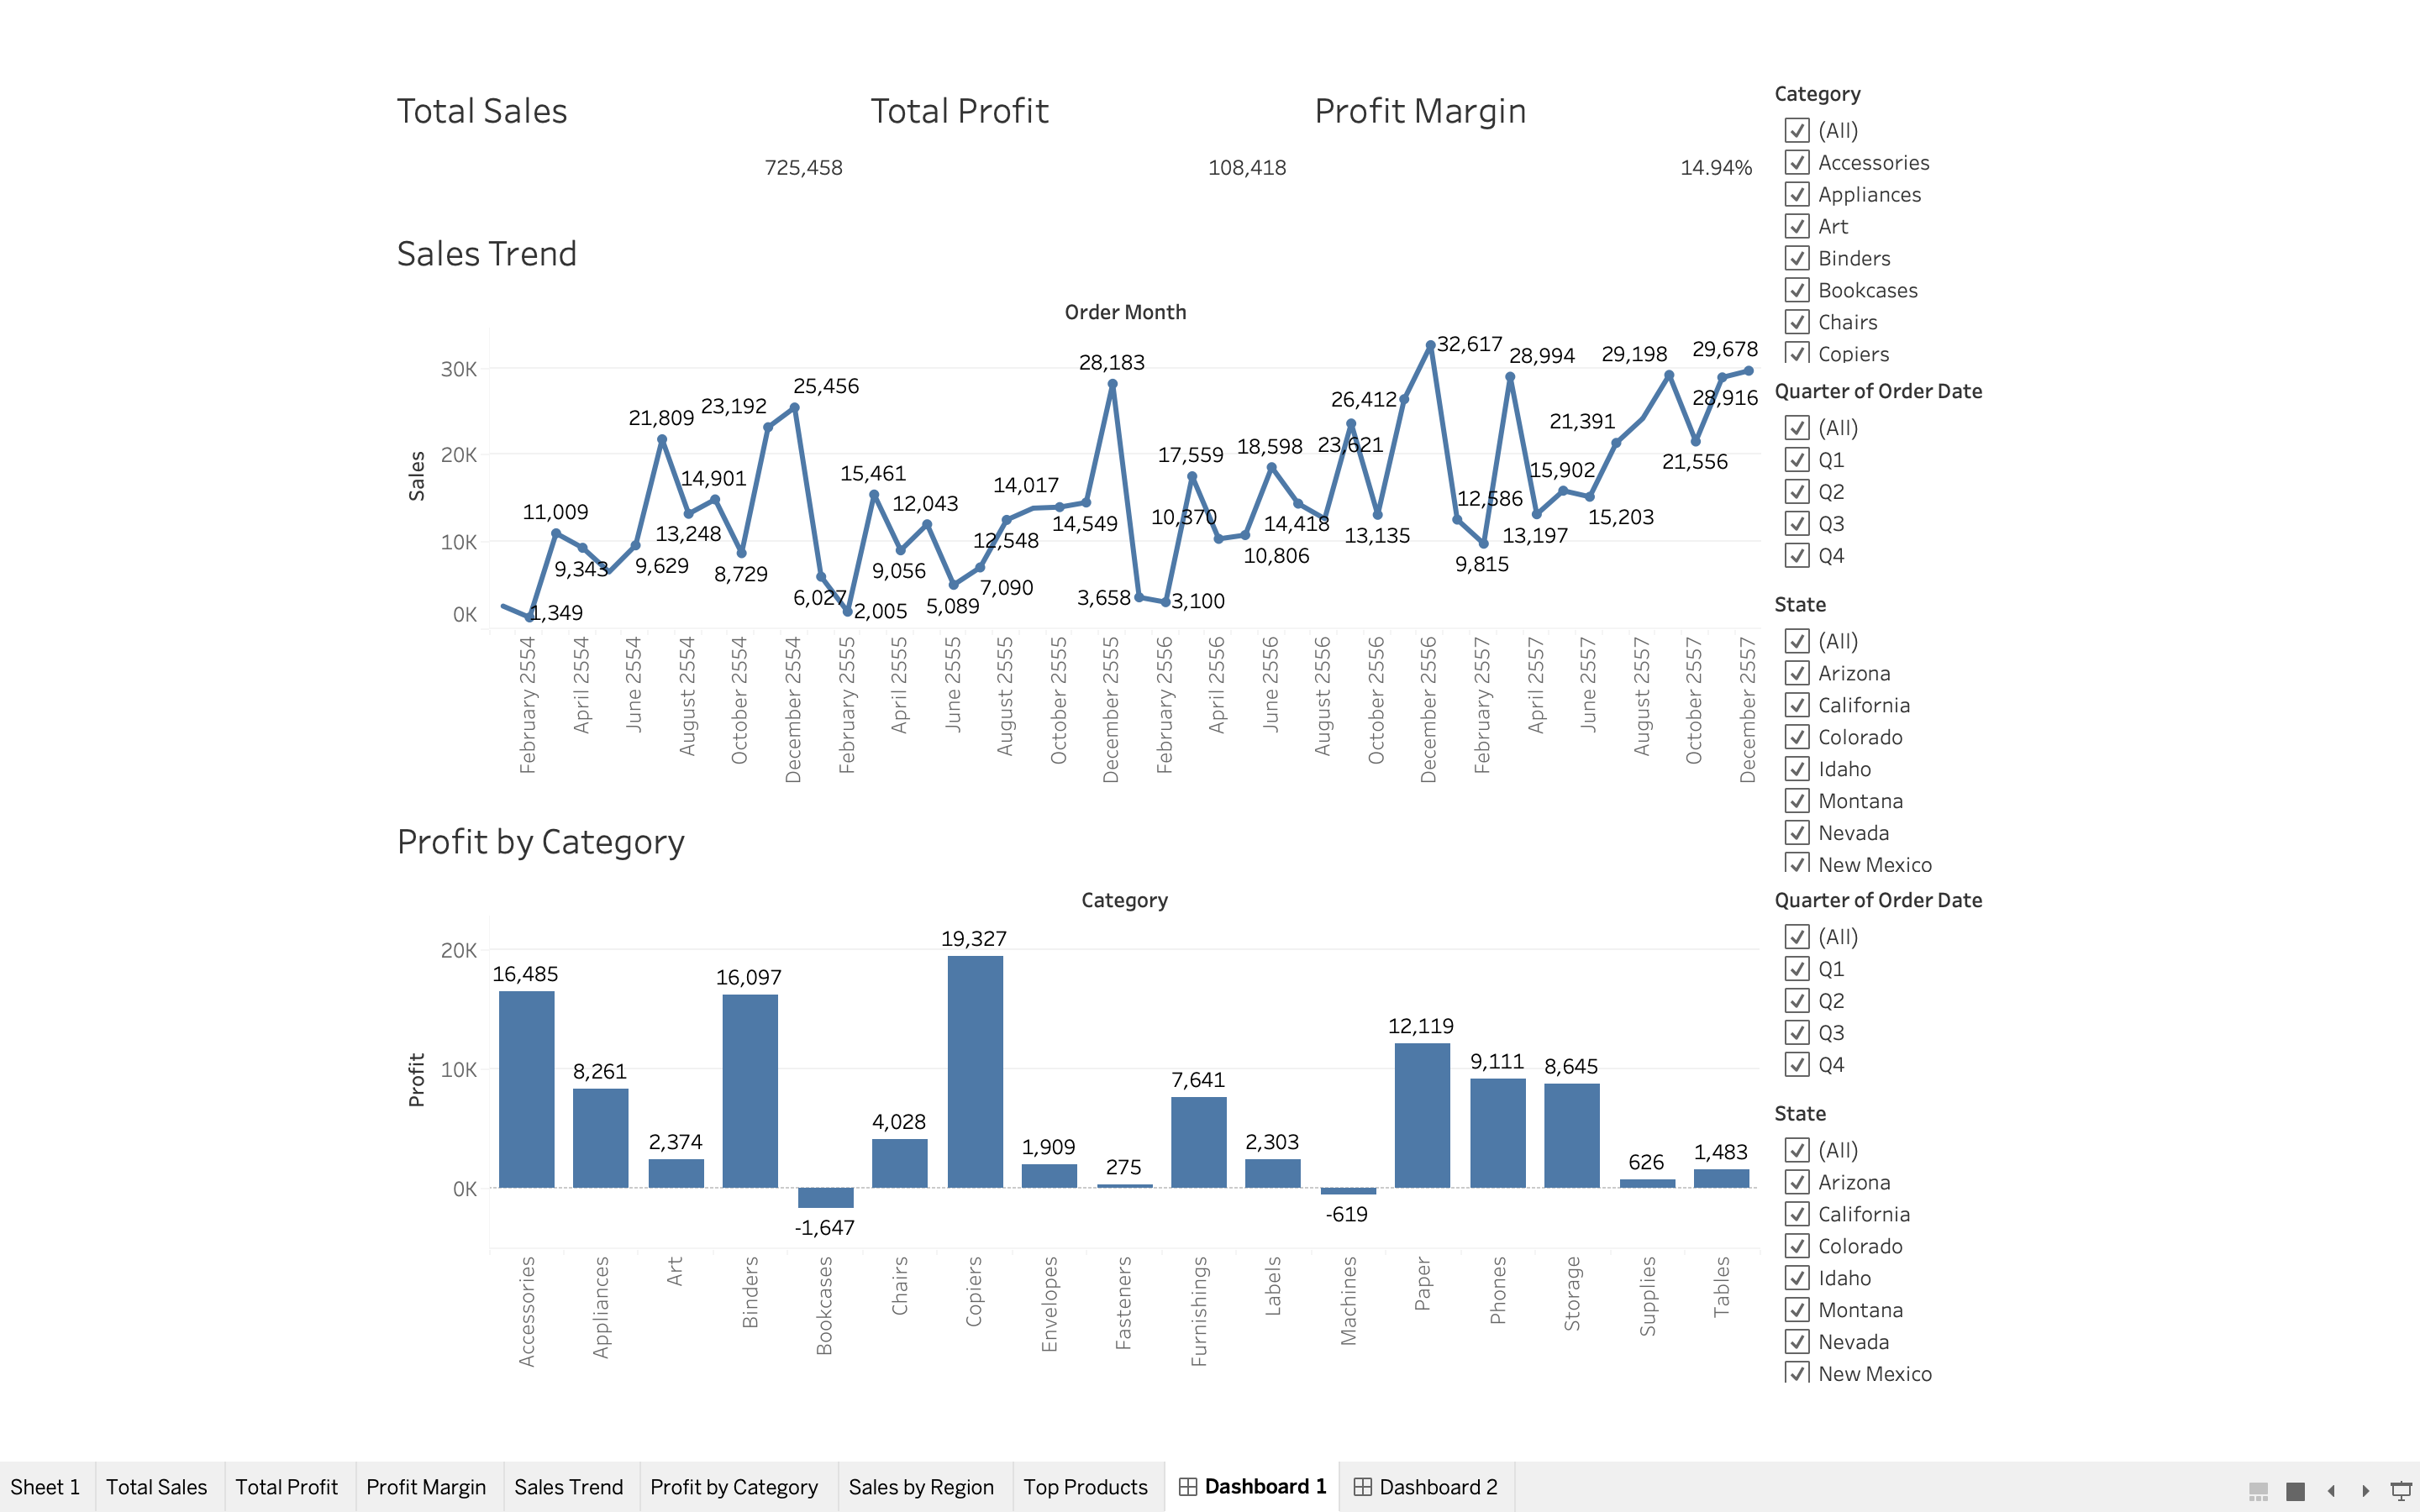

The dashboard page shown, as its layout file describes it:
{"tool":"tableau","page":{"name":"Dashboard 1","canvas":[1000,800],"ordinal":0},"visuals":[{"type":"worksheet","title":"Total Sales","mark":"Automatic","box":[8,8,282,85]},{"type":"worksheet","title":"Total Profit","mark":"Automatic","box":[290,8,264,85]},{"type":"worksheet","title":"Profit Margin","mark":"Automatic","box":[554,8,278,85]},{"type":"filter","title":"Sales Trend","param":"[federated.11ftgvl148c39m1b0iirx012a0sa].[none:Category:nk]","box":[832,8,160,176.7]},{"type":"worksheet","title":"Sales Trend","mark":"Line","rows":["Sales"],"cols":["Calculation_6679108885540865"],"box":[8,93,824,349.5]},{"type":"filter","title":"Sales Trend","param":"[federated.11ftgvl148c39m1b0iirx012a0sa].[qr:Order Date:ok]","box":[832,184.7,160,127]},{"type":"filter","title":"Sales Trend","param":"[federated.11ftgvl148c39m1b0iirx012a0sa].[none:State:nk]","box":[832,311.7,160,176.7]},{"type":"worksheet","title":"Profit by Category","mark":"Bar","rows":["Profit"],"cols":["Category"],"box":[8,442.5,824,349.5]},{"type":"filter","title":"Profit by Category","param":"[federated.11ftgvl148c39m1b0iirx012a0sa].[qr:Order Date:ok]","box":[832,488.3,160,127]},{"type":"filter","title":"Profit by Category","param":"[federated.11ftgvl148c39m1b0iirx012a0sa].[none:State:nk]","box":[832,615.3,160,176.7]}]}

Visuals, with their boxes on the page's 1000x800 design canvas (x1, y1, x2, y2). These are canvas units, not pixel positions in the 2420x1512 screenshot, which may show the page scaled, cropped or inside an application window:
"Total Sales" worksheet: 8, 8, 290, 93
"Total Profit" worksheet: 290, 8, 554, 93
"Profit Margin" worksheet: 554, 8, 832, 93
"Sales Trend" filter: 832, 8, 992, 185
"Sales Trend" worksheet (Line marks): 8, 93, 832, 442
"Sales Trend" filter: 832, 185, 992, 312
"Sales Trend" filter: 832, 312, 992, 488
"Profit by Category" worksheet (Bar marks): 8, 442, 832, 792
"Profit by Category" filter: 832, 488, 992, 615
"Profit by Category" filter: 832, 615, 992, 792
